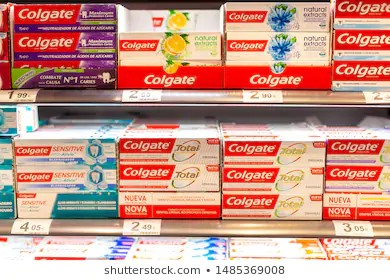colgate-medium: (13, 3, 116, 35), (227, 2, 331, 32), (13, 37, 115, 66), (227, 34, 331, 62), (13, 137, 117, 165), (119, 34, 222, 62), (117, 163, 220, 191), (17, 191, 117, 218), (223, 194, 322, 220), (222, 166, 324, 191), (222, 140, 326, 164), (117, 140, 221, 163), (19, 167, 118, 191), (326, 163, 389, 193), (330, 140, 387, 163)
